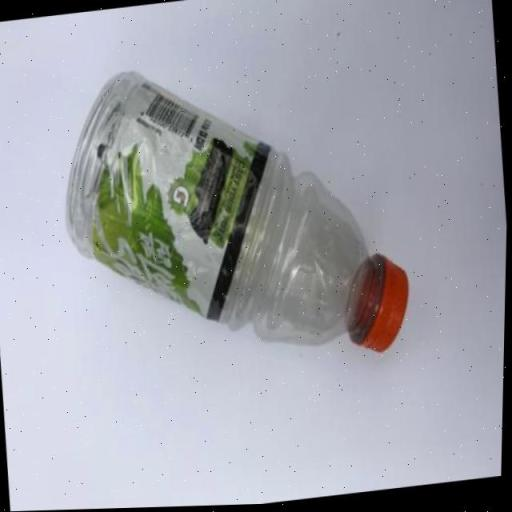plastic: (50, 38, 419, 389)
